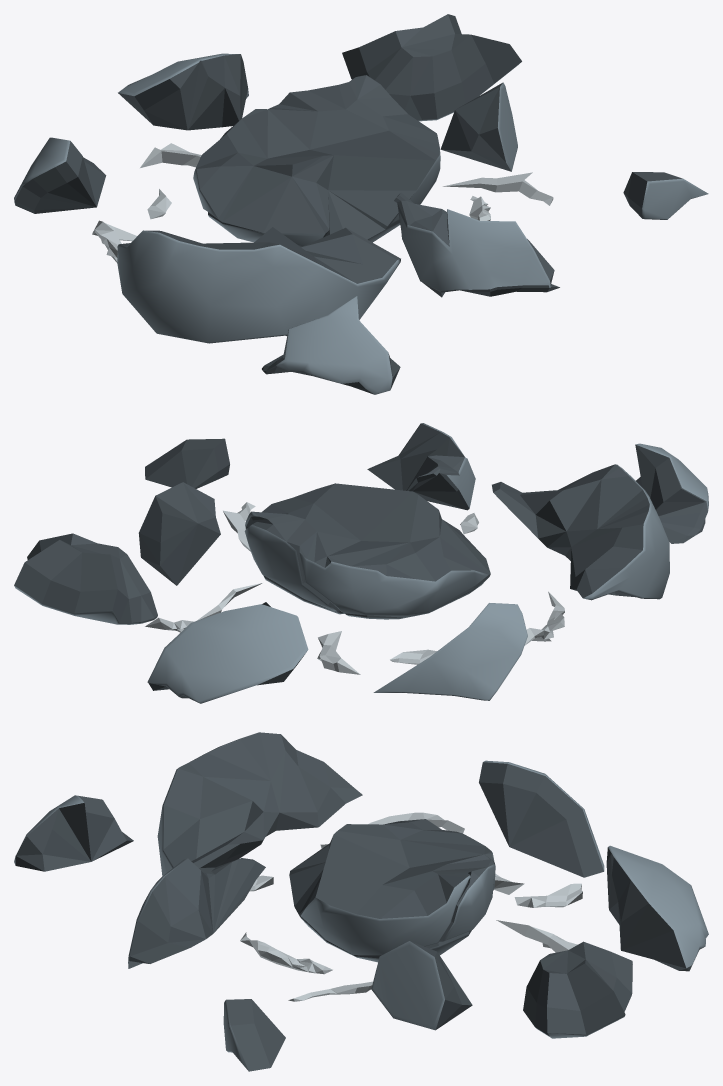
The model's file is PT_Ore_Rock_01_split.fbx.
The picture shows the model from 3 angles, top to bottom: view 1: azimuth 30°, elevation 25°; view 2: azimuth 150°, elevation 25°; view 3: azimuth 270°, elevation 25°; orthographic projection. The views are drawn at different scales.
Visible parts, largest first — view 1: PT_Ore_Rock_01_split_LOD0; view 2: PT_Ore_Rock_01_split_LOD0; view 3: PT_Ore_Rock_01_split_LOD0.
Part boxes in pixels (<box>): PT_Ore_Rock_01_split_LOD0: <box>14,14,708,394</box>; PT_Ore_Rock_01_split_LOD0: <box>14,423,708,703</box>; PT_Ore_Rock_01_split_LOD0: <box>14,732,708,1071</box>.
Size of what is drawn, in the model's own units: 154 by 28.16 by 173.
1 material, 1 textured.
